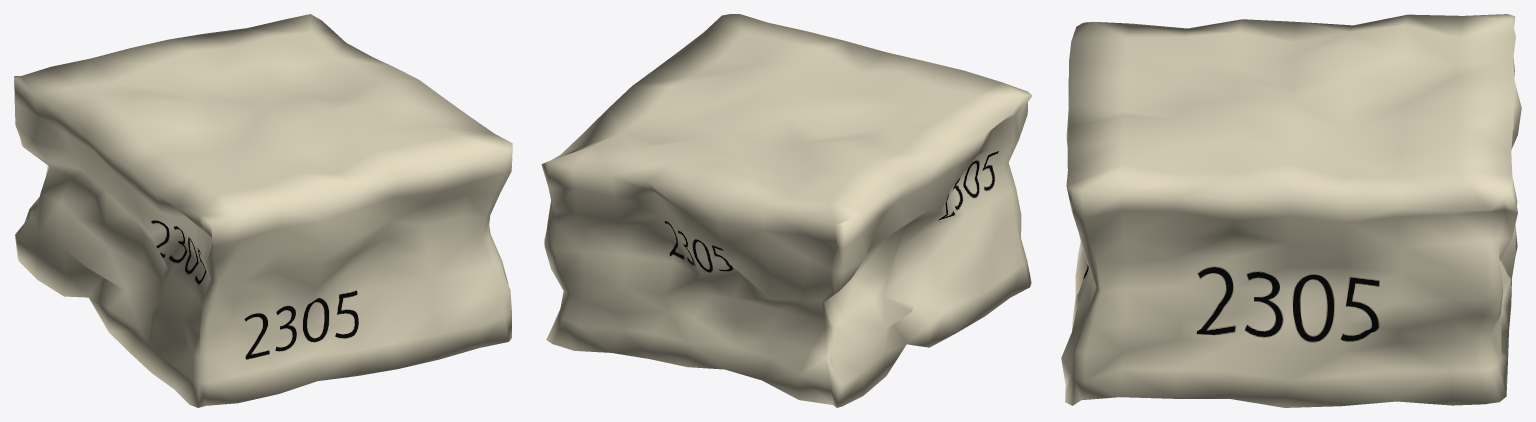
Rendered from CTB_2305.dae.
3 renders of one model, left to right at view 1: azimuth 30°, elevation 25°; view 2: azimuth 150°, elevation 25°; view 3: azimuth 270°, elevation 25°, orthographic. The views are drawn at different scales.
Parts seen in each view (by area): view 1: Cube; view 2: Cube; view 3: Cube.
Part boxes in pixels (x1,y1,x2,y2): Cube: (14,14,512,407); Cube: (541,14,1032,407); Cube: (1061,14,1521,407).
Size of the model in its own units: 1.85 by 2.05 by 1.18.
Materials: 1 (1 with a texture image).
